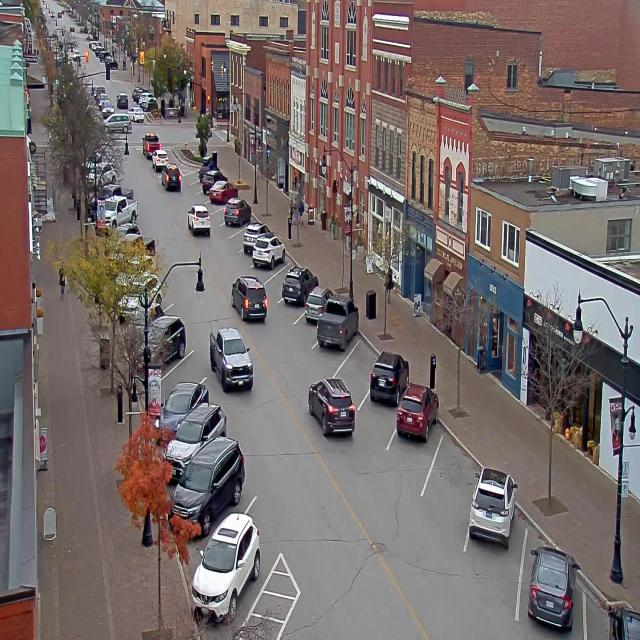available: (428, 434, 482, 509), (335, 334, 378, 394), (159, 346, 207, 382), (265, 262, 290, 297), (227, 224, 250, 252), (211, 205, 228, 228), (187, 169, 200, 185)
occupied: (169, 435, 245, 538), (194, 508, 268, 612), (527, 544, 579, 631), (468, 466, 517, 548), (171, 394, 230, 457), (153, 380, 209, 441), (209, 326, 254, 392), (586, 588, 639, 639), (394, 386, 442, 442), (316, 296, 358, 352), (368, 350, 409, 406), (141, 313, 186, 364), (282, 264, 318, 305), (252, 232, 285, 269), (304, 281, 330, 324), (241, 221, 268, 254), (223, 197, 251, 227), (200, 169, 224, 192), (211, 181, 237, 201), (197, 156, 215, 181)
